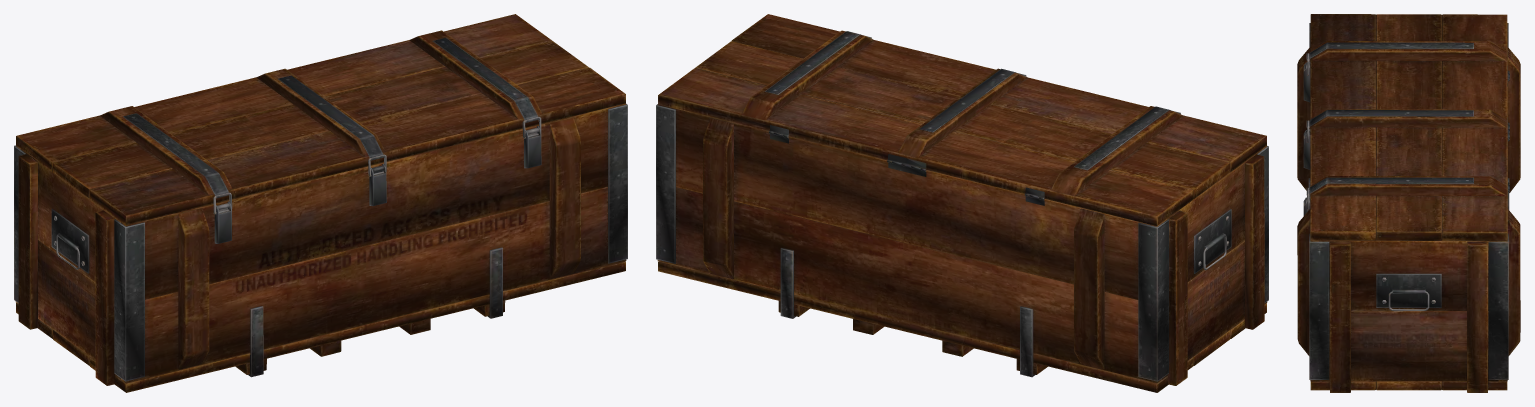
File: ph_milcrate_long.glb
3 renders of one model, left to right at view 1: azimuth 30°, elevation 25°; view 2: azimuth 150°, elevation 25°; view 3: azimuth 270°, elevation 25°, orthographic. The views are drawn at different scales.
Visible parts, largest first — view 1: wooden_military_crate; view 2: wooden_military_crate; view 3: wooden_military_crate.
Part boxes in pixels (x1,y1,x2,y2): wooden_military_crate: (14, 14, 627, 392); wooden_military_crate: (656, 14, 1268, 392); wooden_military_crate: (1297, 14, 1520, 392).
Bounding box in the file's own units: 1.24 × 0.4639 × 0.5198.
1 material, 1 textured.
